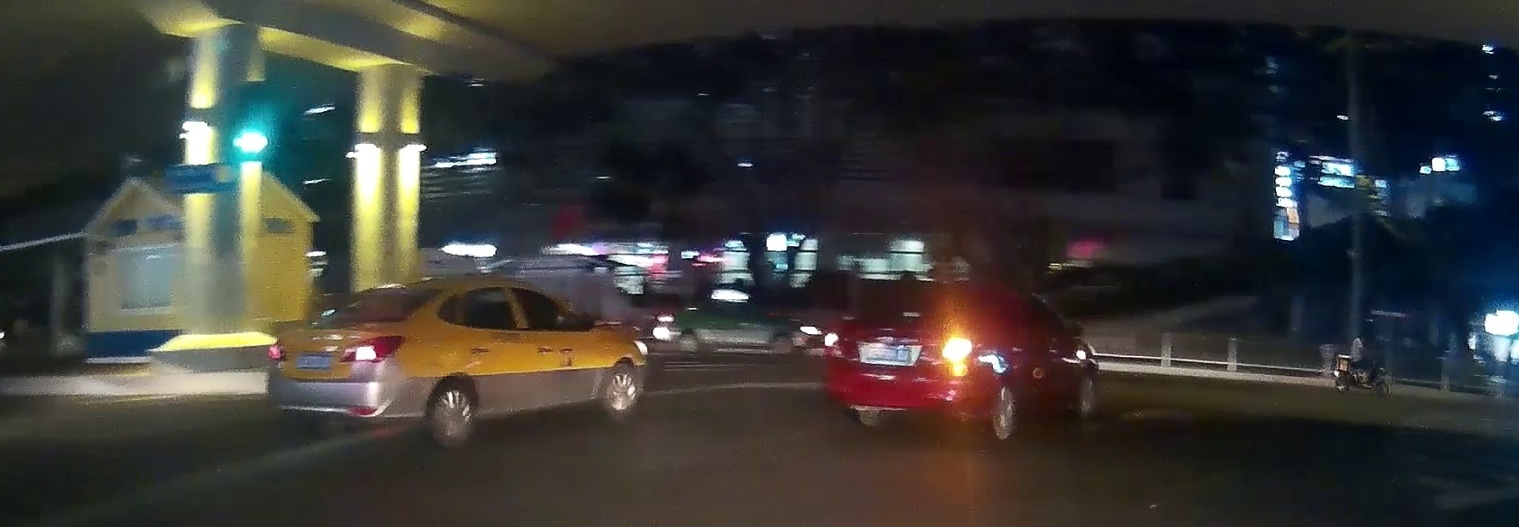L_light: (823, 331, 846, 359), (267, 340, 287, 363)
R_light: (339, 335, 405, 363), (933, 339, 970, 364)
T_light: (378, 290, 401, 296), (917, 296, 939, 302)
night-no: (267, 281, 444, 448)
night-right: (822, 283, 985, 436)
